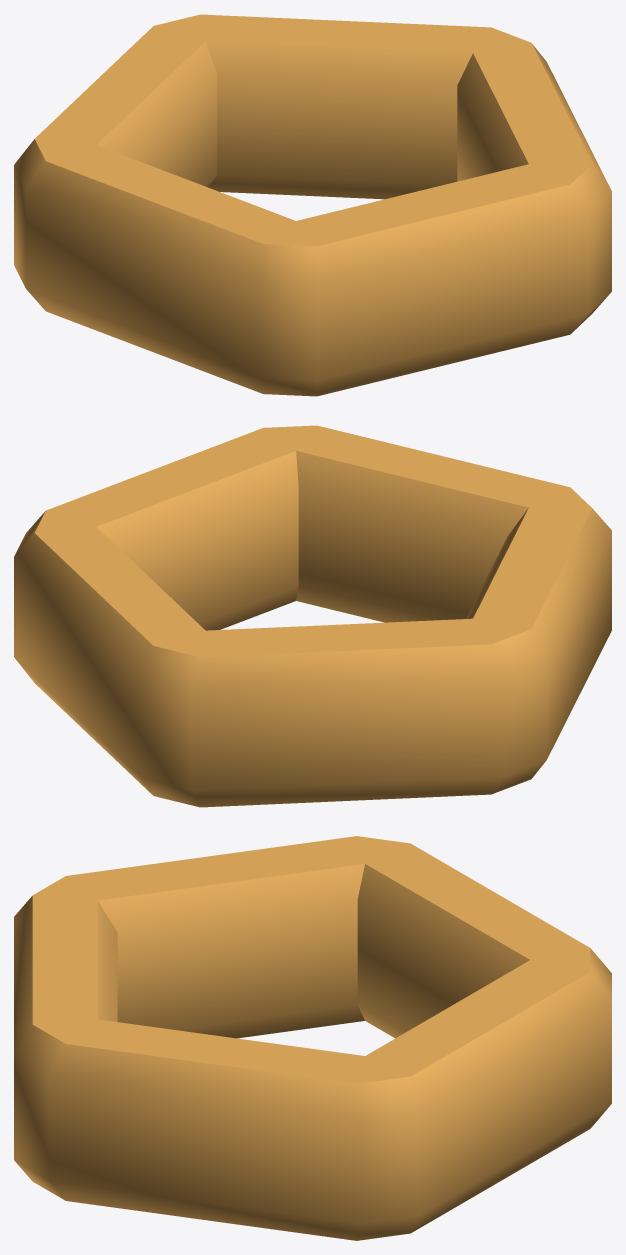
File: Pentagon_02.fbx
3 renders of one model, top to bottom at view 1: azimuth 30°, elevation 25°; view 2: azimuth 150°, elevation 25°; view 3: azimuth 270°, elevation 25°, orthographic. The views are drawn at different scales.
Visible parts, largest first — view 1: Pentagon_02; view 2: Pentagon_02; view 3: Pentagon_02.
Part boxes in pixels (x1=…): Pentagon_02: x1=14, y1=14, x2=611, y2=396; Pentagon_02: x1=14, y1=425, x2=611, y2=807; Pentagon_02: x1=14, y1=836, x2=611, y2=1240.
Bounding box in the file's own units: 363 × 100 × 345.
